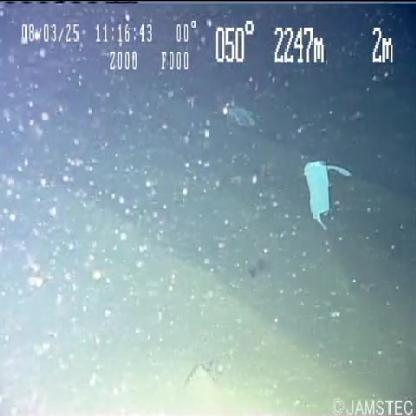Rác: (304, 162, 331, 222)
